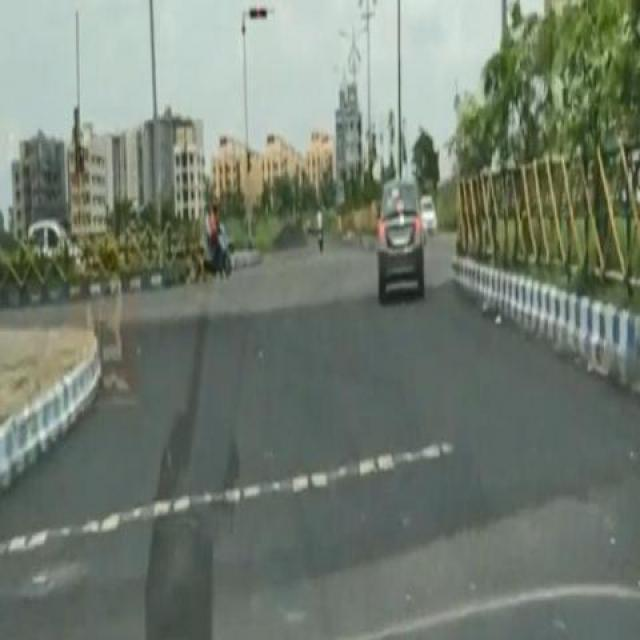Speed Bump: (0, 438, 455, 556)
